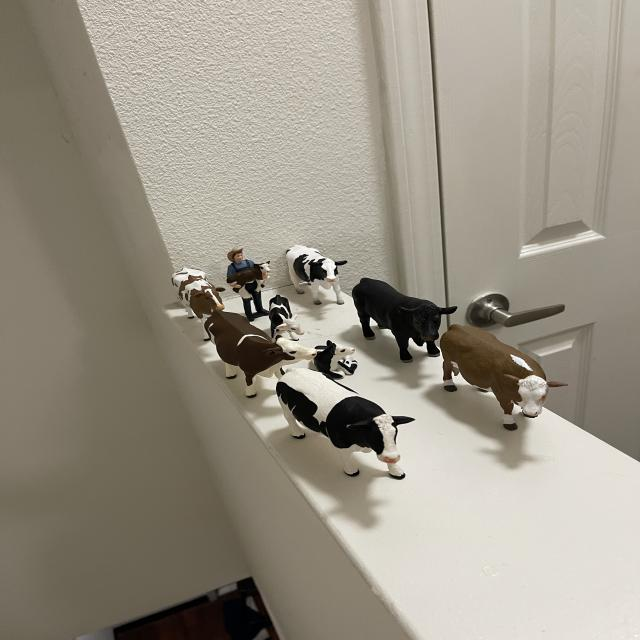cow: (254, 357, 429, 497), (418, 313, 568, 444), (185, 303, 318, 415), (335, 272, 457, 373), (283, 238, 345, 313), (167, 259, 226, 325), (308, 337, 362, 383), (265, 292, 305, 340), (224, 258, 274, 294)
person: (218, 244, 255, 277)
